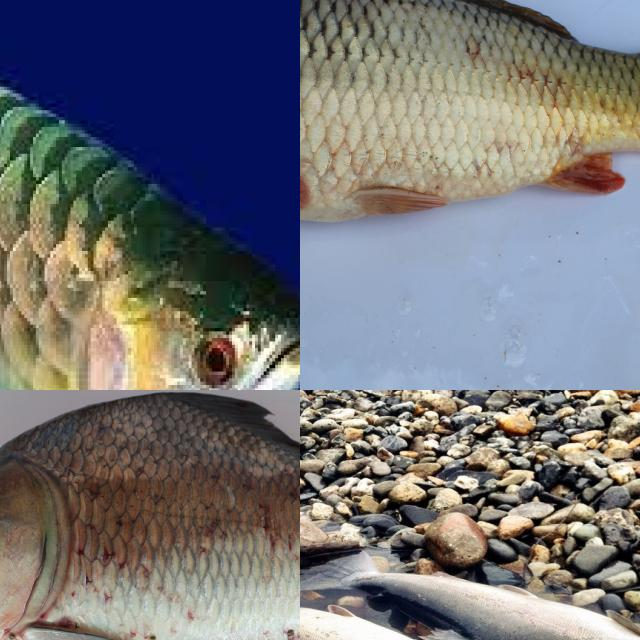fish: (0, 0, 300, 390), (300, 0, 640, 238), (0, 390, 300, 640), (300, 542, 640, 640)
